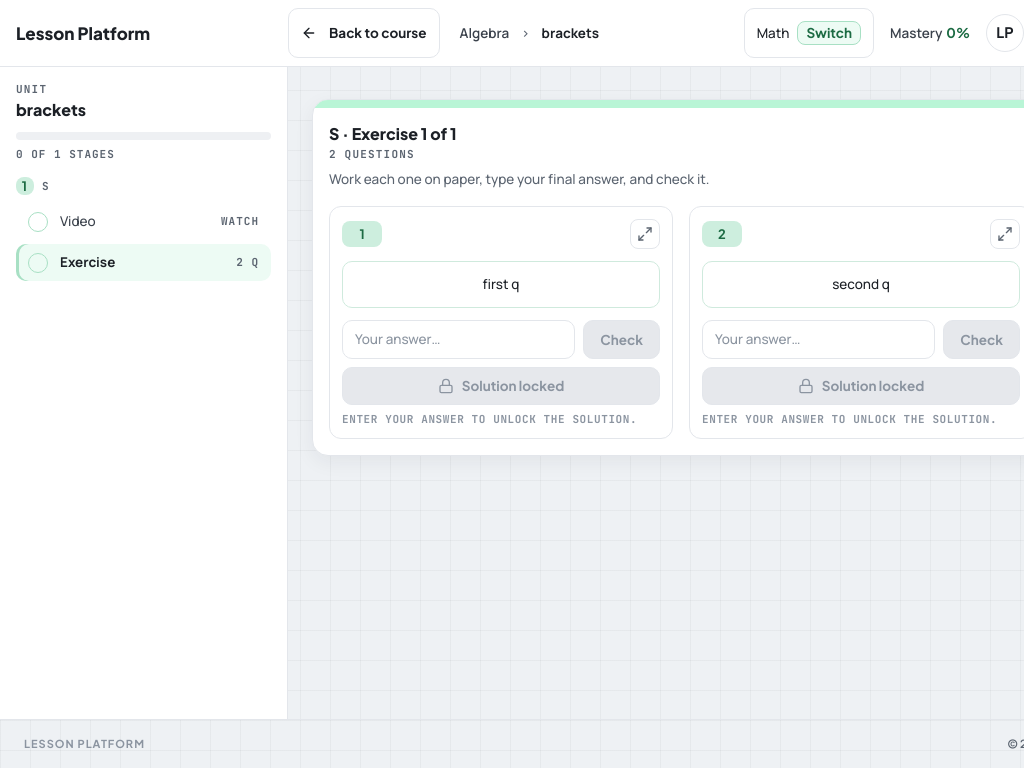
Test: Question focus view (§7c) › opens from the enlarge icon, labels Question N of M, navigates, closes (Esc), restores focus
Click the button named "Enlarge question 1": [645, 234] box [630,219,660,249]
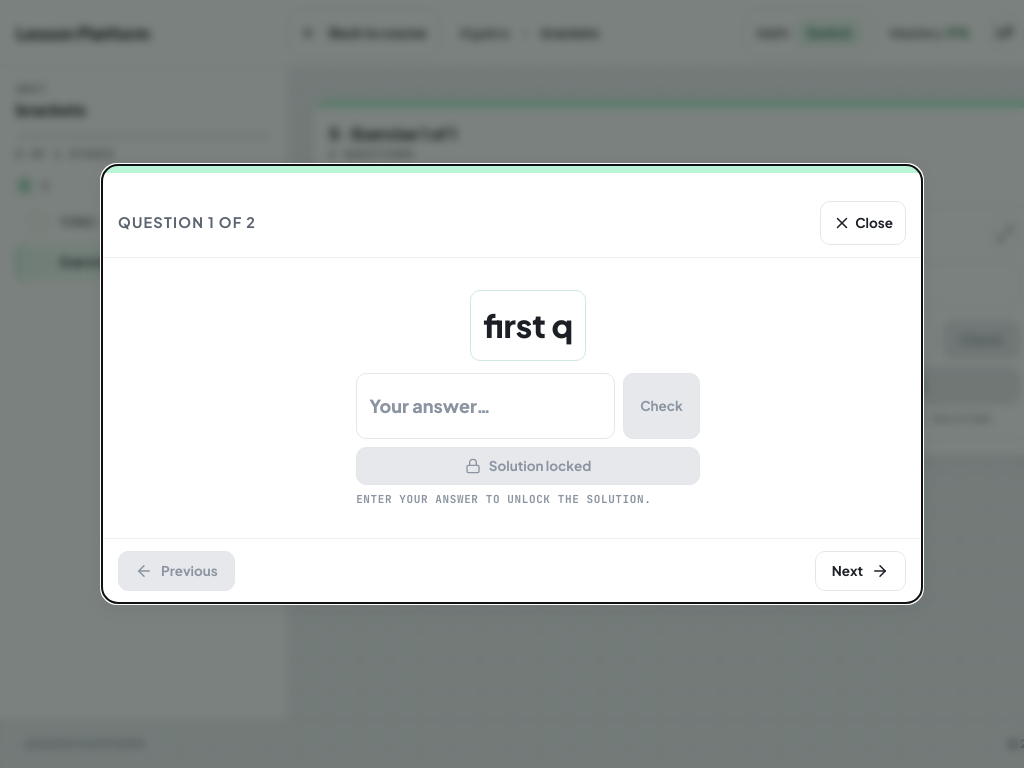
Press ArrowRight in the dialog "Question 1 of 2", box [101,164,923,604]
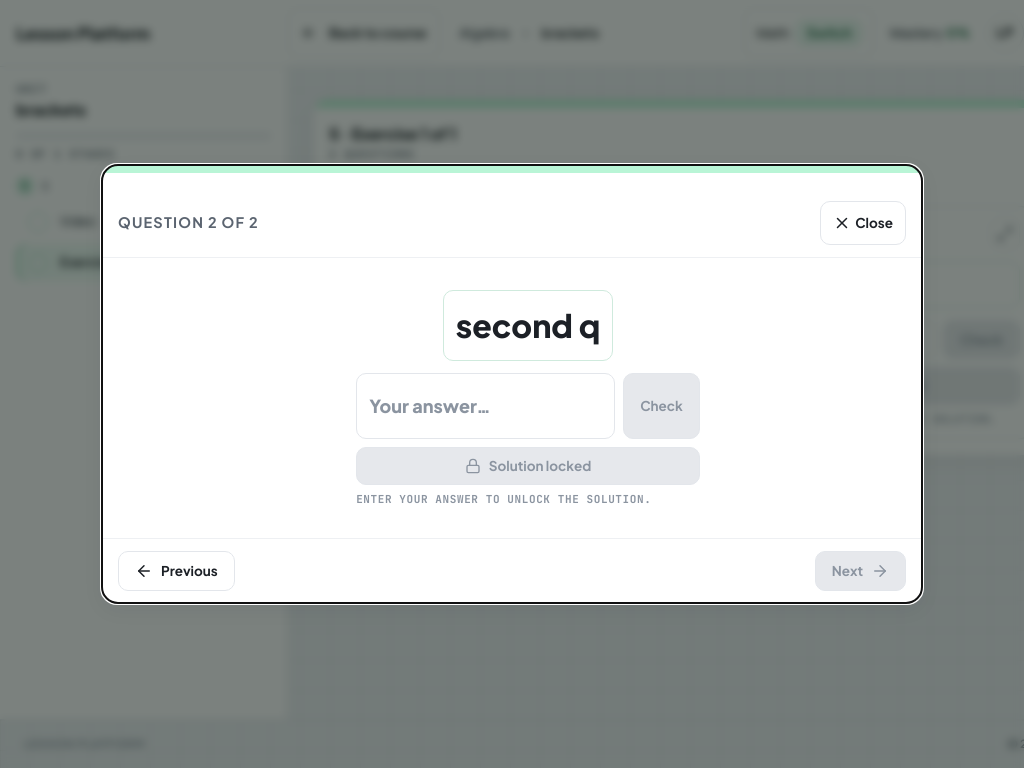
Expected: the dialog "Question 2 of 2" is shown
Press Escape in the dialog, box [101,164,923,604]
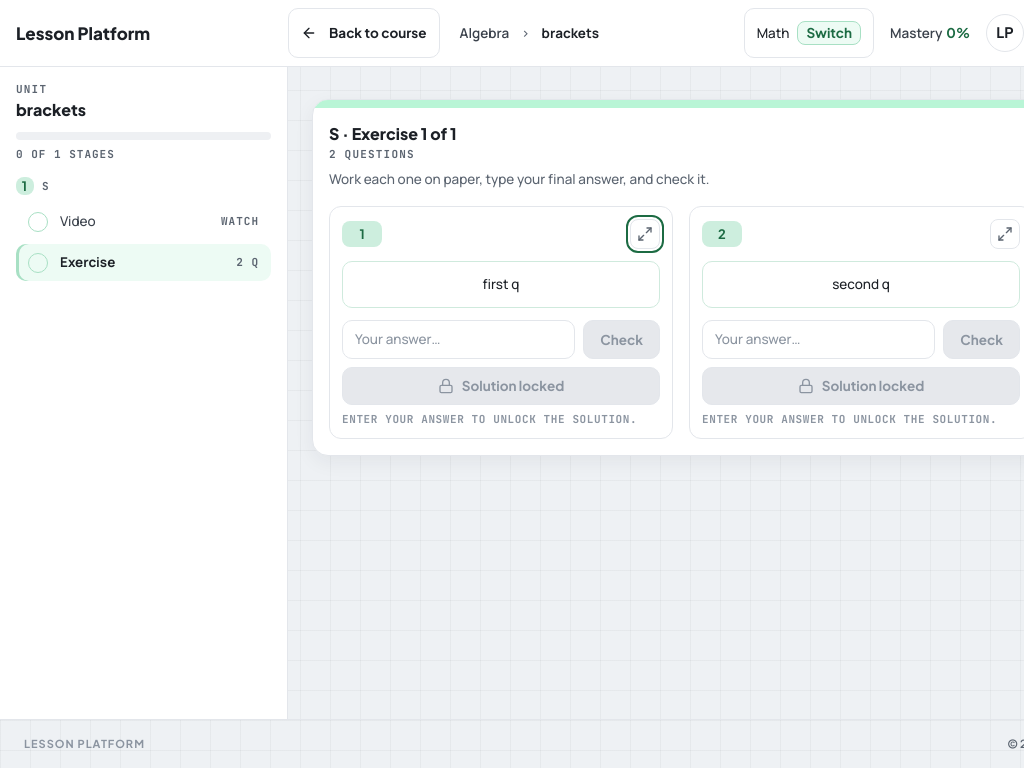
Expected: the dialog is gone
